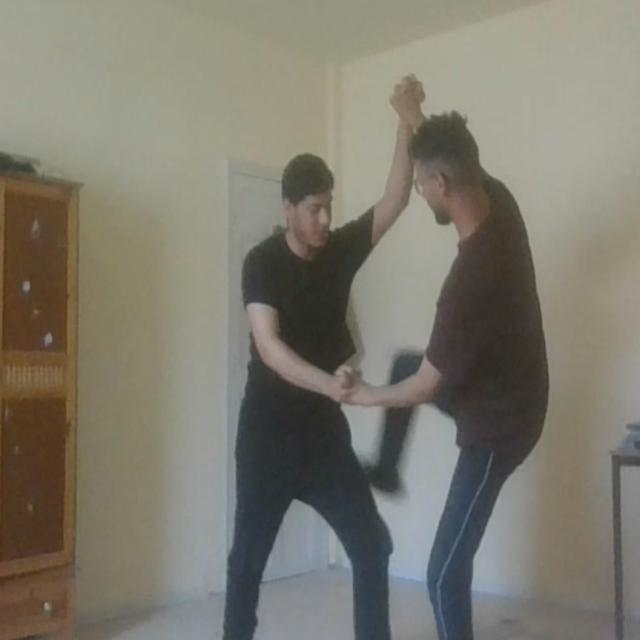violence: (233, 64, 557, 640), (255, 85, 510, 518)
